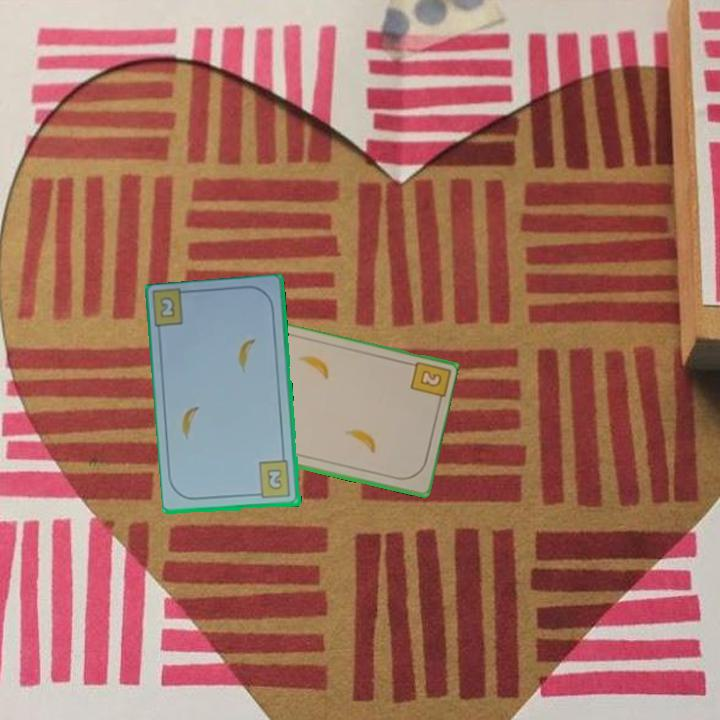2b: (252, 458, 294, 502), (416, 366, 444, 390), (156, 293, 178, 321)
